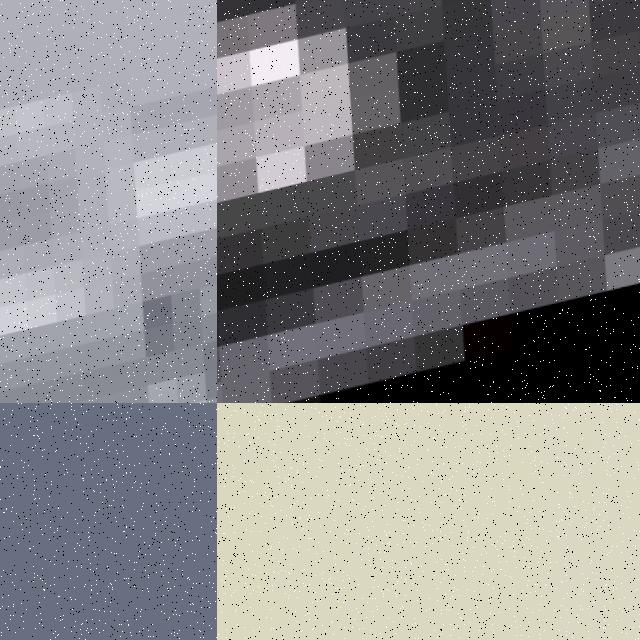drone: (217, 0, 640, 403), (217, 403, 640, 640), (0, 0, 217, 403)
